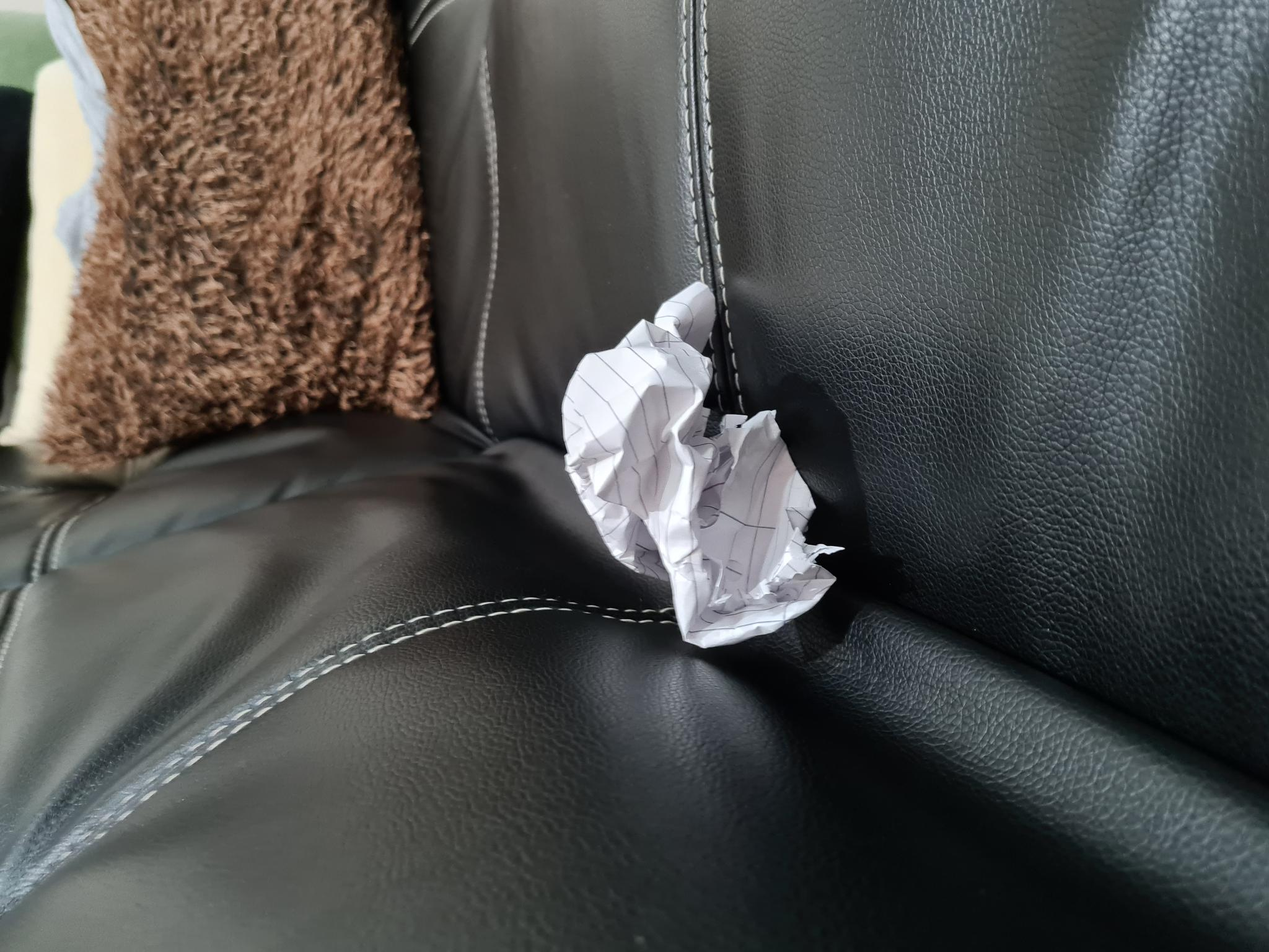Kertas: (296, 570, 692, 845)
